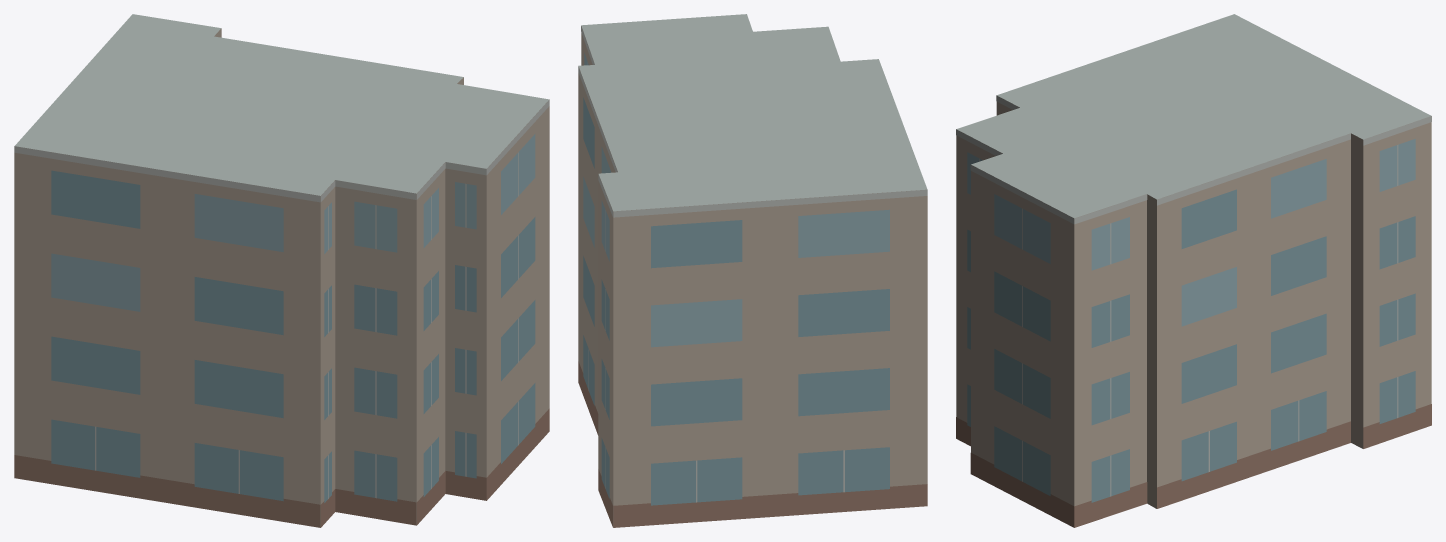
File: survey-upis-32652648.glb
3 renders of one model, left to right at view 1: azimuth 30°, elevation 25°; view 2: azimuth 150°, elevation 25°; view 3: azimuth 270°, elevation 25°, orthographic. The views are drawn at different scales.
Visible parts, largest first — view 1: survey-upis-32652648.tmp; view 2: survey-upis-32652648.tmp; view 3: survey-upis-32652648.tmp.
Boxes of the visible parts, left/top/right/bottom form: survey-upis-32652648.tmp: left=14, top=14, right=549, bottom=527; survey-upis-32652648.tmp: left=578, top=14, right=927, bottom=527; survey-upis-32652648.tmp: left=956, top=14, right=1431, bottom=527.
Bounding box in the file's own units: 17.49 × 12.35 × 17.2.
